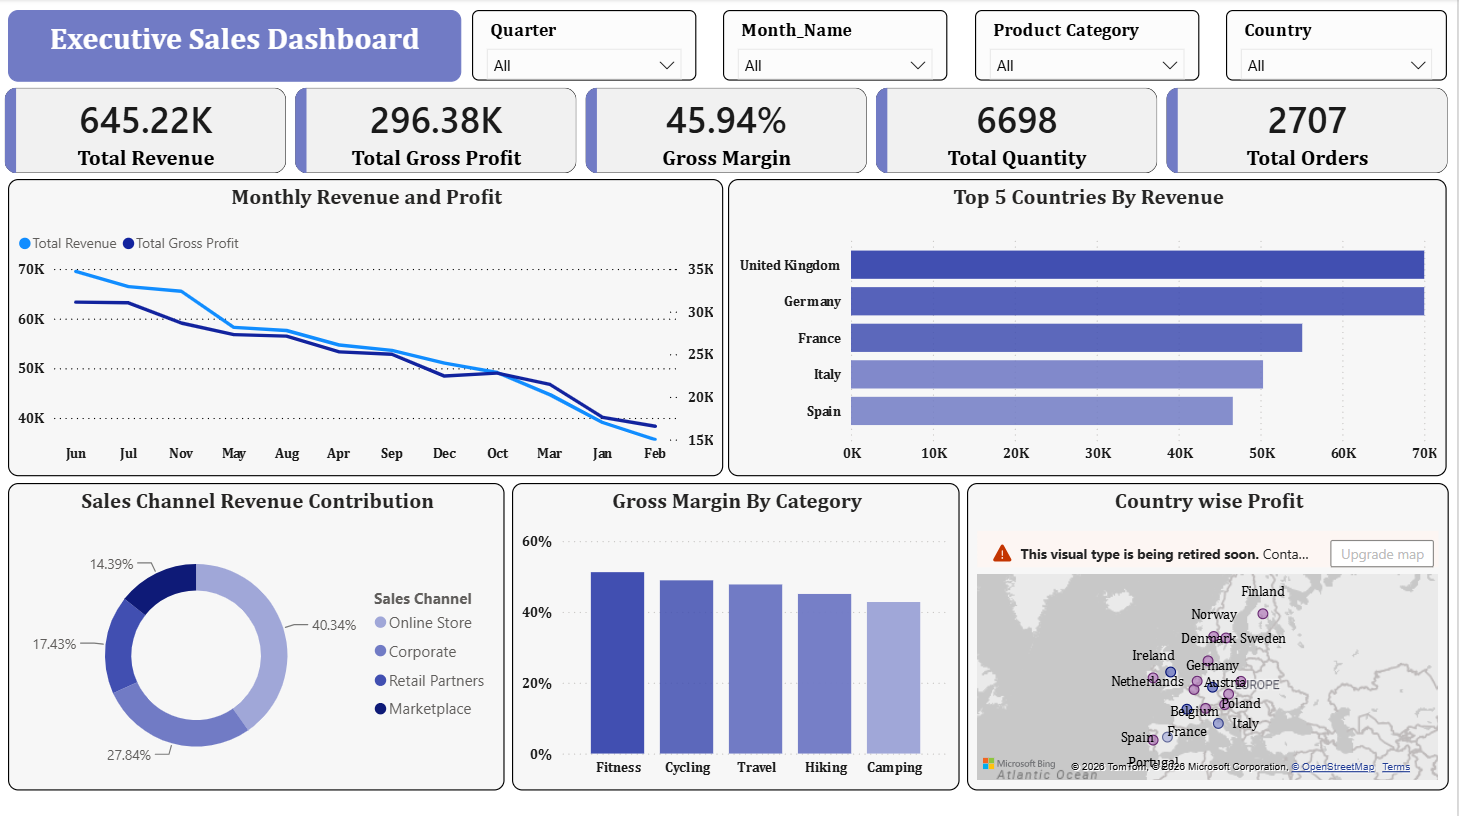

The page's visual inventory and layout, read from the dashboard file:
{"tool":"powerbi","page":{"name":"Page 1","canvas":[1280,720],"ordinal":0},"visuals":[{"type":"slicer","fields":{"Values":["Cust_Date.Quarter"]},"box":[415,10,196.9,62.2],"z":0,"group":"g1"},{"type":"cardVisual","fields":{"Data":["All_Measures.Total Revenue","All_Measures.Total Gross Profit","All_Measures.Gross Margin","All_Measures.Total Quantity","All_Measures.Total Orders"]},"box":[0,72.5,1280,85.6],"z":0},{"type":"textbox","box":[8.2,10,398.2,62.7],"z":1000},{"type":"slicer","fields":{"Values":["Cust_Date.Month_Name"]},"box":[635.7,10,196.9,62.2],"z":1000,"group":"g1"},{"type":"group","id":"g1","title":"Group 1","box":[415,10,857.5,62.5],"z":2000},{"type":"slicer","fields":{"Values":["SalesData.Product Category"]},"box":[856.5,10,196.9,62.2],"z":2000,"group":"g1"},{"type":"slicer","fields":{"Values":["SalesData.Country"]},"box":[1077.2,10,194.5,62.2],"z":3000,"group":"g1"},{"type":"lineChart","title":"Monthly Revenue and Profit","fields":{"Category":["Cust_Date.Month_Name"],"Y":["All_Measures.Total Revenue"],"Y2":["All_Measures.Total Gross Profit"]},"box":[7.9,158,627.8,260.8],"z":3000},{"type":"clusteredBarChart","title":"Top 5 Countries By Revenue","fields":{"Y":["All_Measures.Total Revenue"],"Category":["SalesData.Country"]},"box":[640.1,158,631.3,260.8],"z":4000},{"type":"donutChart","title":"Sales Channel Revenue Contribution","fields":{"Y":["All_Measures.Total Revenue"],"Category":["SalesData.Sales Channel"]},"box":[7.9,425,436.4,269.6],"z":5000},{"type":"columnChart","title":"Gross Margin By Category","fields":{"Category":["SalesData.Product Category"],"Y":["All_Measures.Gross Margin"]},"box":[450.4,425,393.4,269.6],"z":6000},{"type":"map","title":"Country wise Profit","fields":{"Category":["SalesData.Country"]},"box":[850,425,423.2,269.6],"z":7000}]}

Visuals, with their boxes in screenshot pixels (x1, y1, x2, y2), scaled from the page's 1280x720 canvas onto the 1459x816 screenshot:
slicer - Cust_Date.Quarter: <region>473, 11, 697, 82</region>
cardVisual - All_Measures.Total Revenue x All_Measures.Total Gross Profit: <region>0, 82, 1458, 179</region>
textbox: <region>9, 11, 463, 82</region>
slicer - Cust_Date.Month_Name: <region>725, 11, 949, 82</region>
"Group 1" group: <region>473, 11, 1450, 82</region>
slicer - SalesData.Product Category: <region>976, 11, 1201, 82</region>
slicer - SalesData.Country: <region>1228, 11, 1450, 82</region>
"Monthly Revenue and Profit" lineChart: <region>9, 179, 725, 475</region>
"Top 5 Countries By Revenue" clusteredBarChart: <region>730, 179, 1449, 475</region>
"Sales Channel Revenue Contribution" donutChart: <region>9, 482, 506, 787</region>
"Gross Margin By Category" columnChart: <region>513, 482, 962, 787</region>
"Country wise Profit" map: <region>969, 482, 1451, 787</region>
